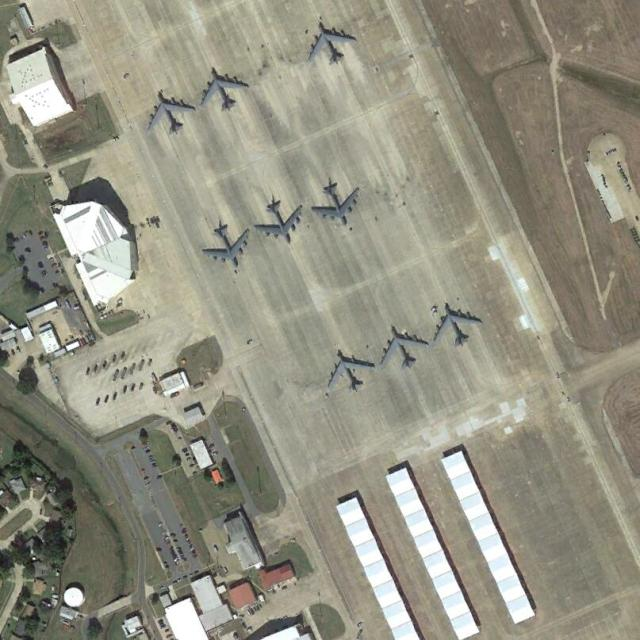fighter jet: (435, 301, 485, 347), (255, 197, 303, 244), (324, 346, 374, 390), (147, 90, 192, 136), (319, 185, 362, 229), (382, 329, 427, 371), (197, 225, 245, 262), (303, 23, 351, 59), (202, 71, 242, 108)
